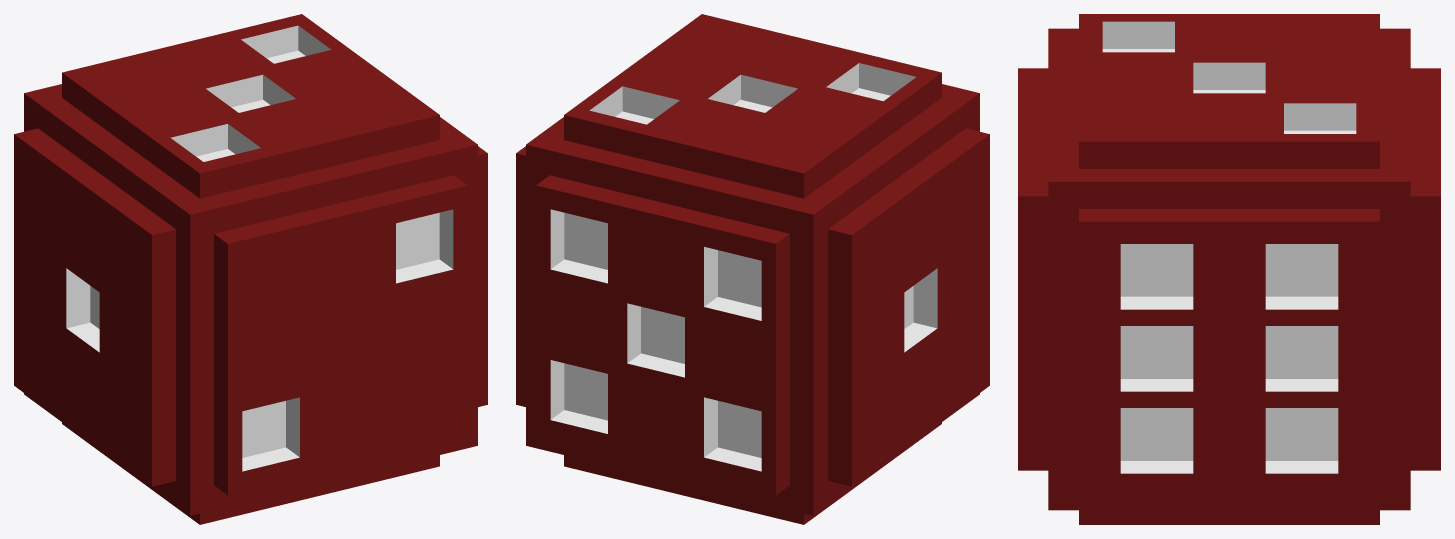
Rendered from dice.FBX.
3 renders of one model, left to right at view 1: azimuth 30°, elevation 25°; view 2: azimuth 150°, elevation 25°; view 3: azimuth 270°, elevation 25°, orthographic. The views are drawn at different scales.
Visible parts, largest first — view 1: dice; view 2: dice; view 3: dice.
Boxes of the visible parts, x1,y1,x2,y2 form: dice: (14,14,487,524); dice: (516,14,989,524); dice: (1018,14,1440,524).
Size of the model in its own units: 70 by 70 by 70.
